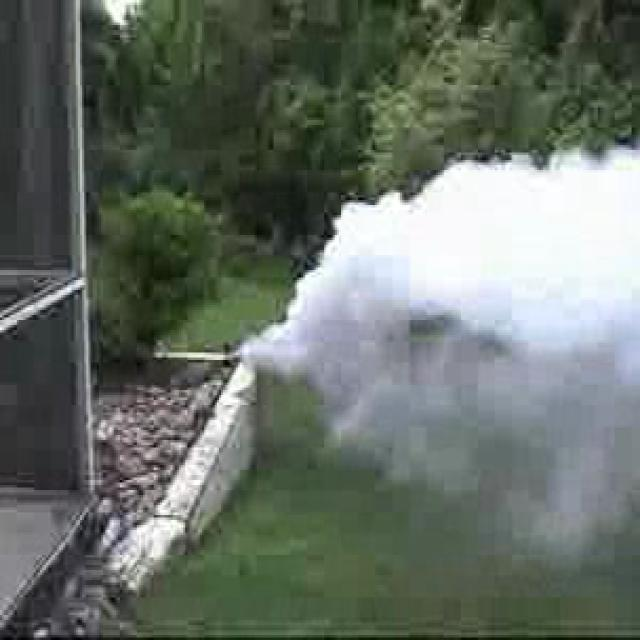Smoke: (295, 147, 635, 532)
